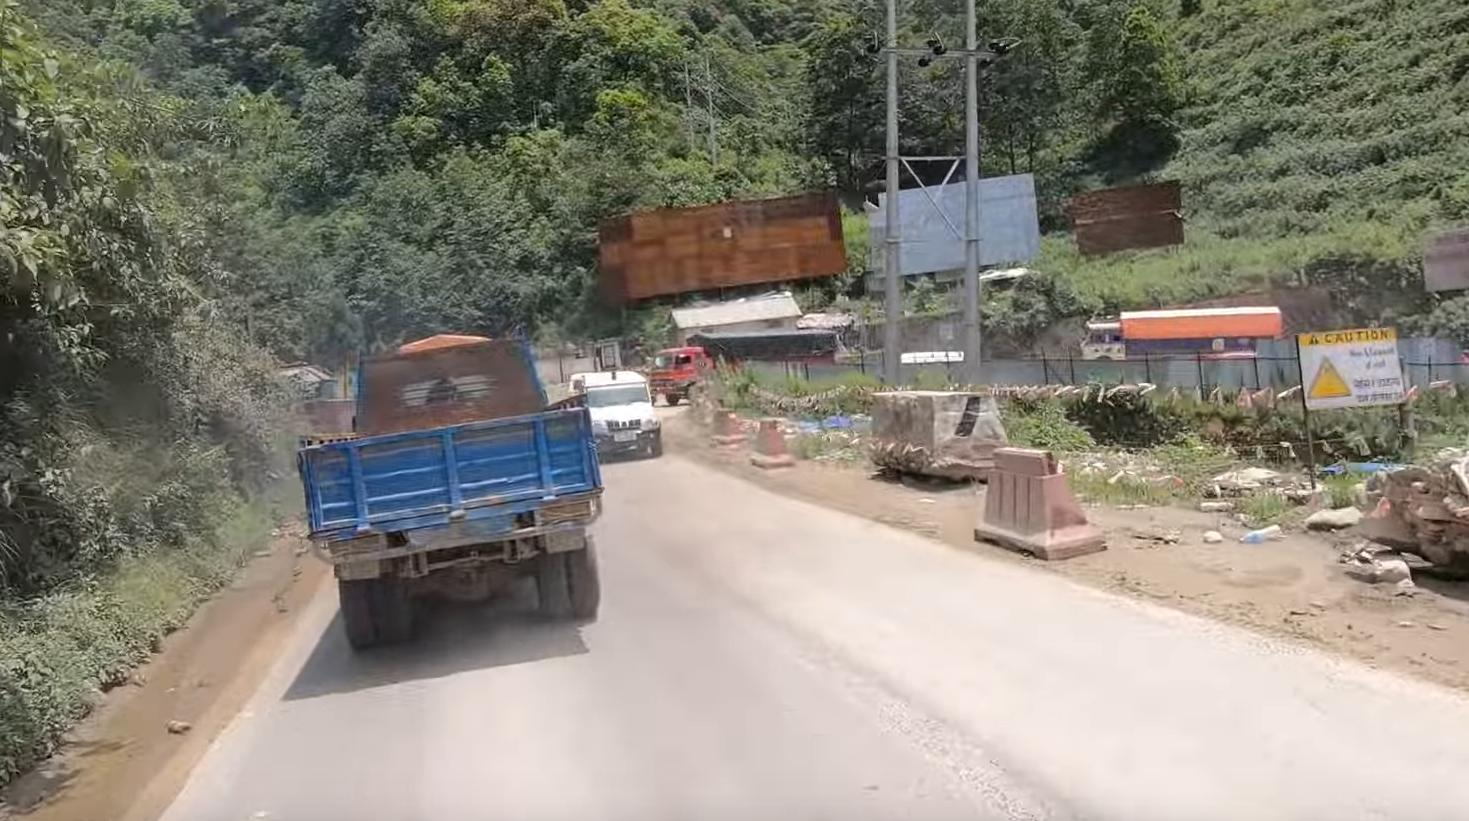ambulance: (569, 365, 676, 463)
mini_truck: (291, 326, 611, 656)
truck: (646, 327, 837, 401), (1076, 303, 1284, 367)
